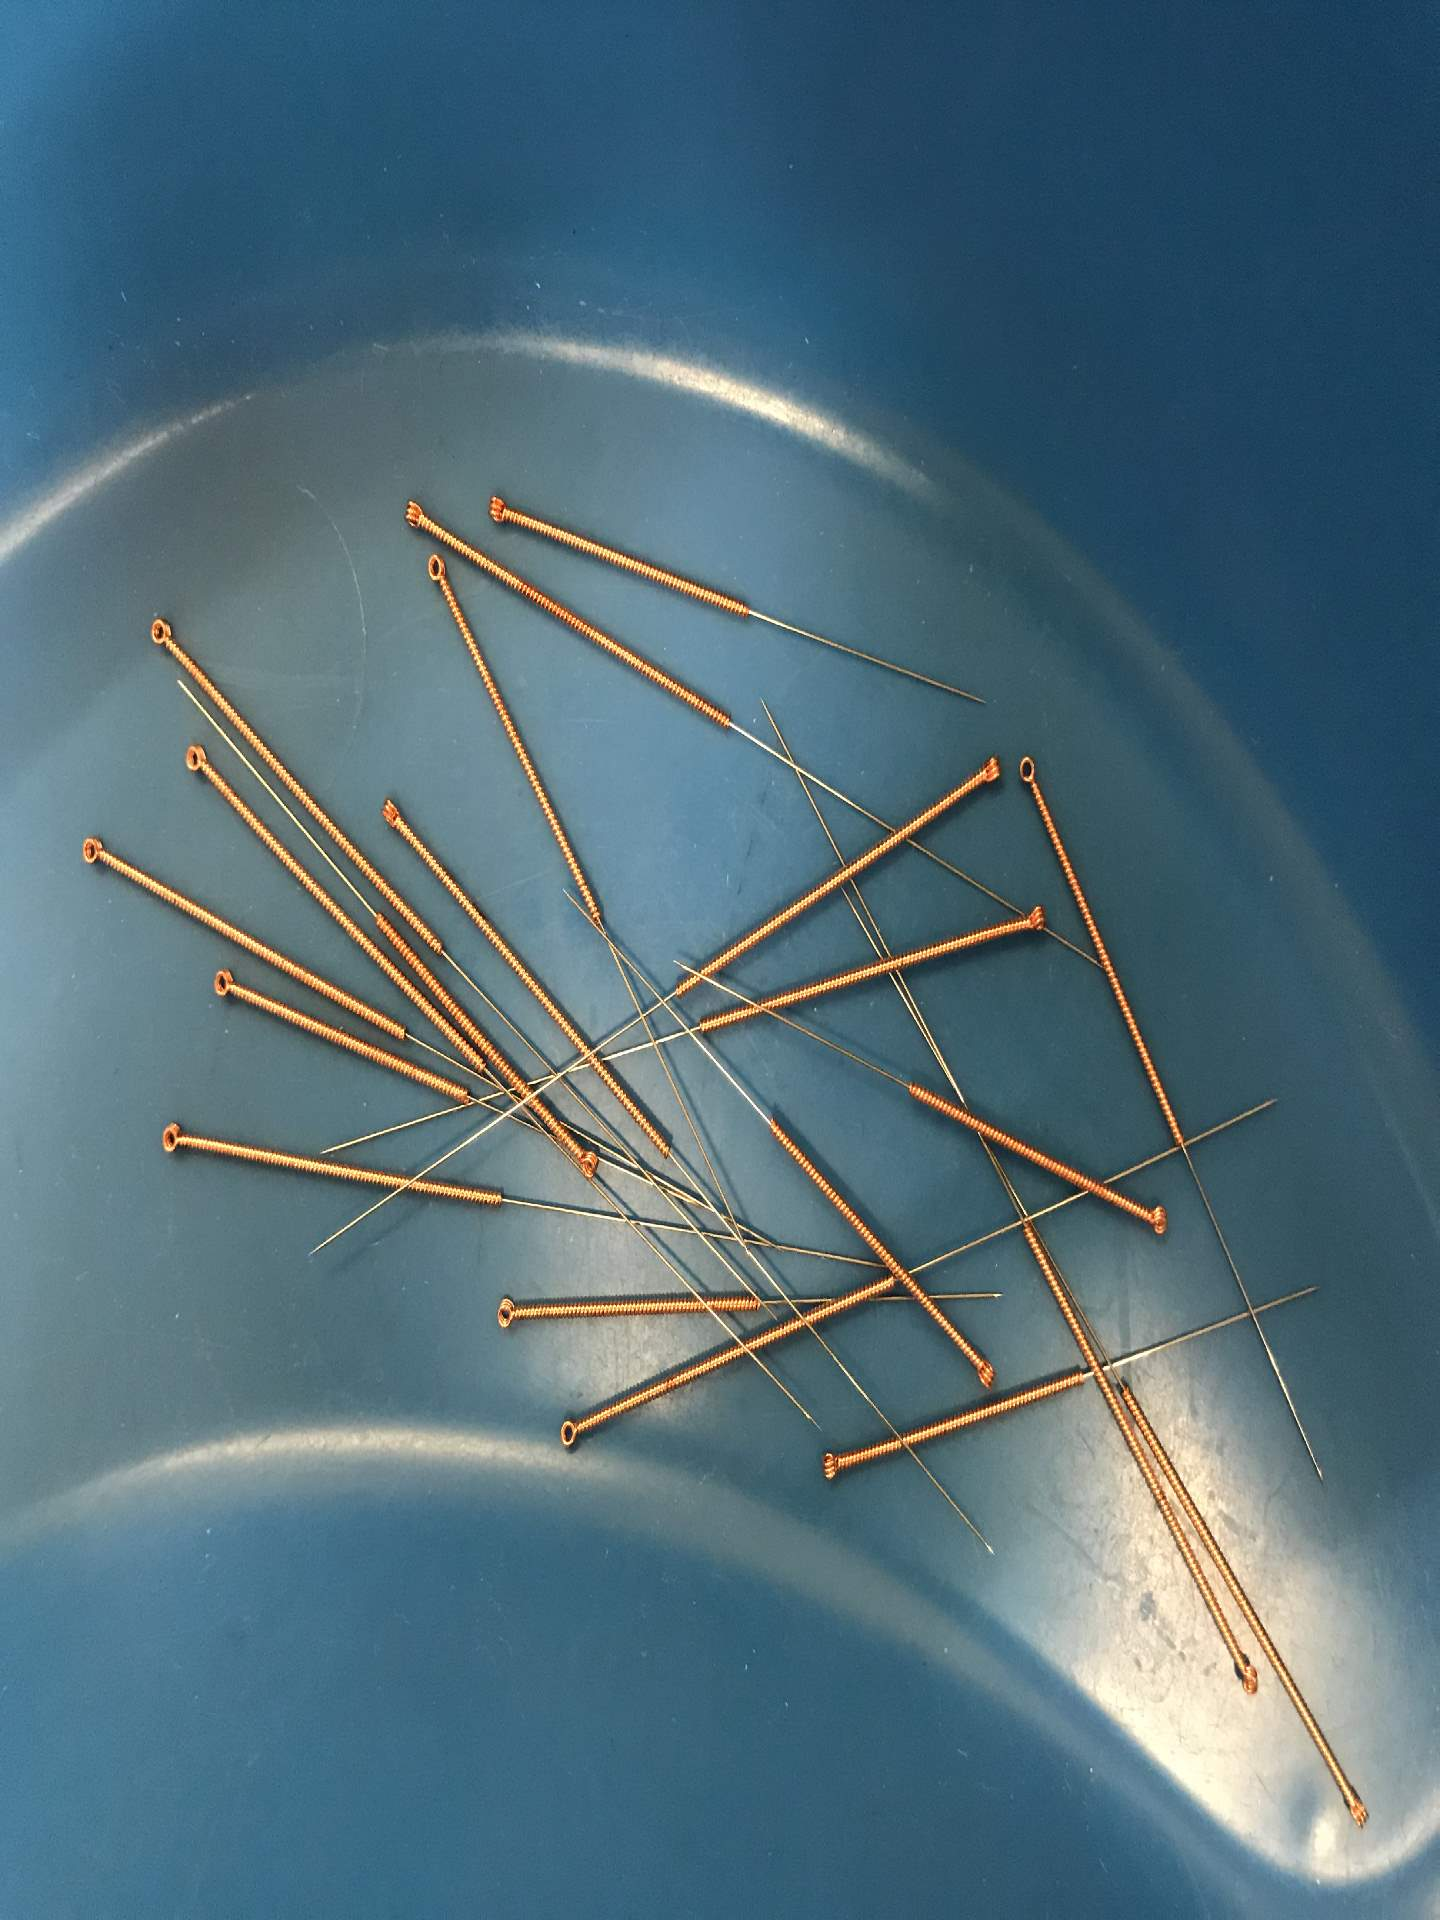needle: (138, 605, 185, 664), (67, 827, 119, 877), (169, 736, 219, 783), (371, 788, 413, 841), (483, 1290, 528, 1336), (1134, 1197, 1180, 1244), (473, 488, 520, 532), (147, 1116, 191, 1163), (964, 747, 1007, 794), (1007, 898, 1056, 940), (548, 1407, 588, 1456), (390, 491, 434, 535), (417, 547, 455, 597), (203, 962, 245, 1005), (811, 1442, 852, 1485), (1339, 1788, 1376, 1834), (1010, 747, 1044, 797), (1228, 1657, 1266, 1701), (965, 1350, 1001, 1394), (570, 1144, 604, 1185)
